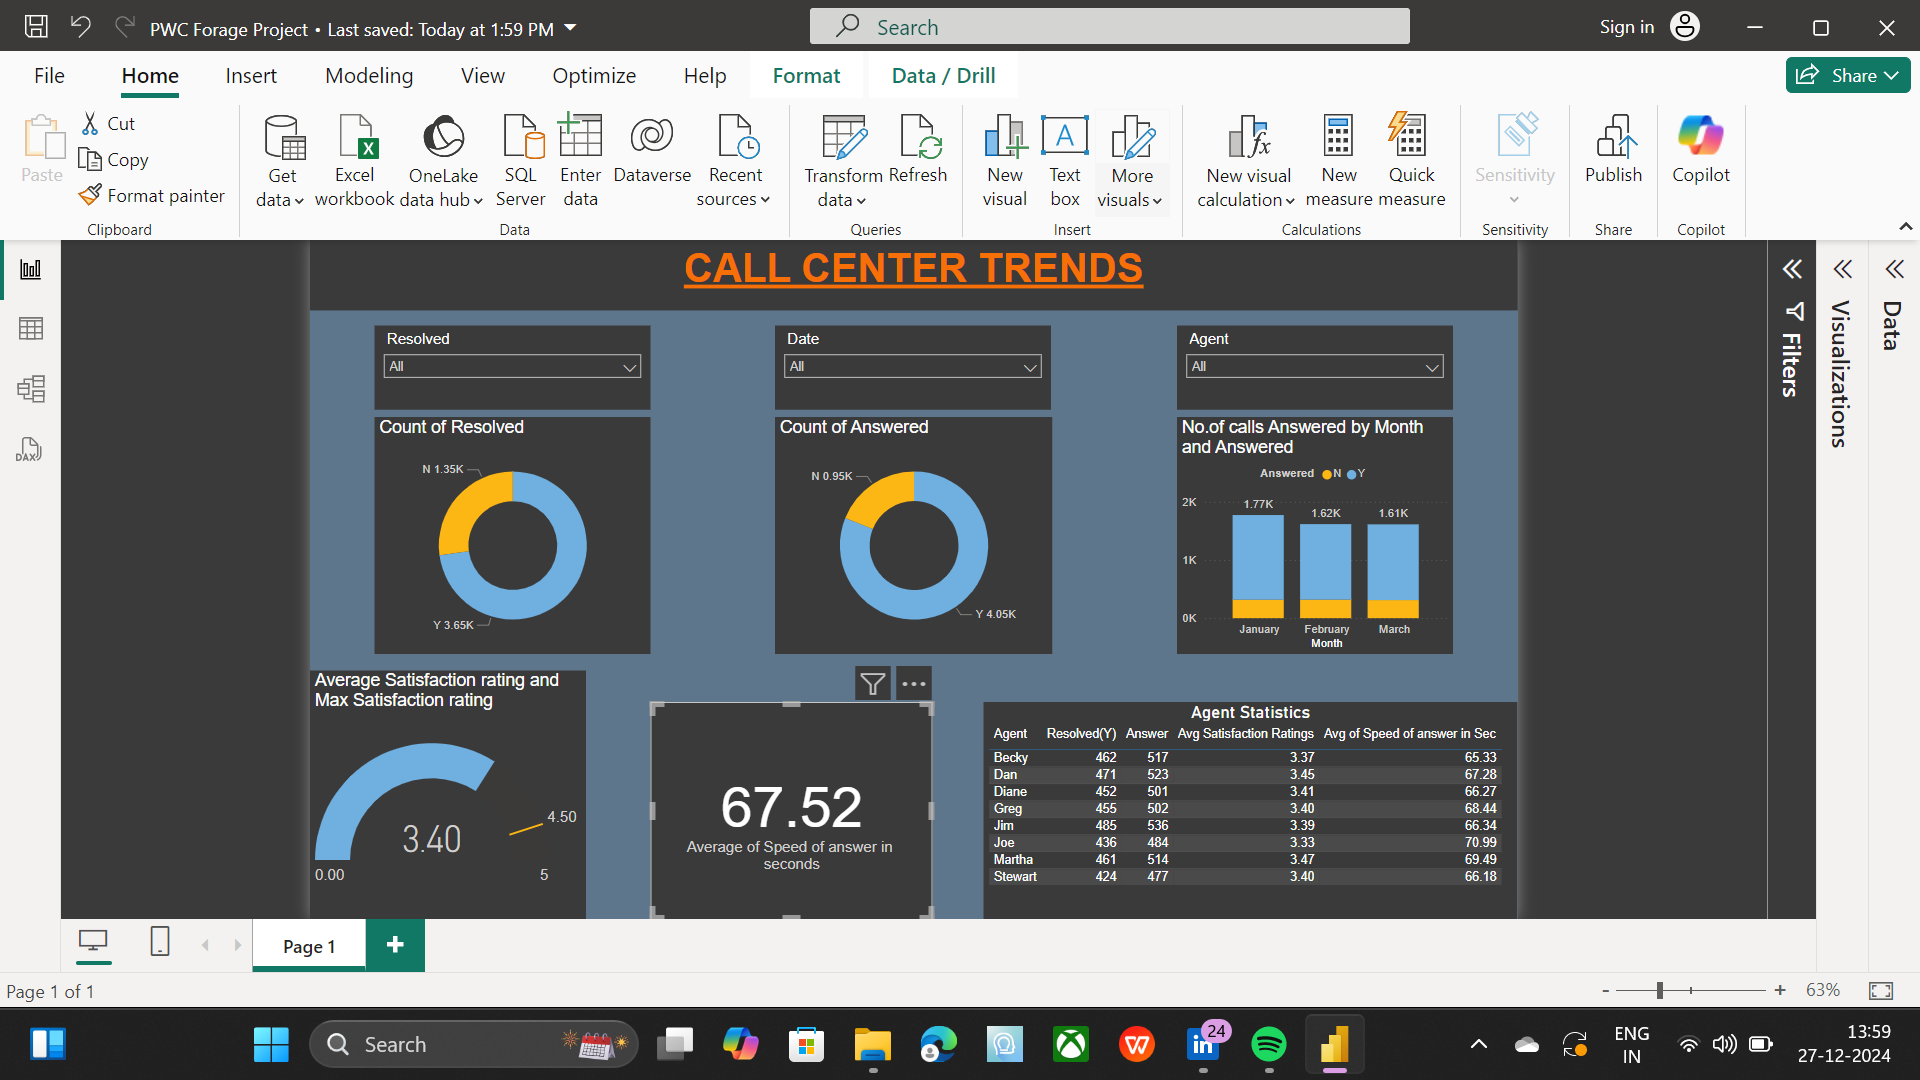

This screenshot's page, from the dashboard's own definition file:
{"tool":"powerbi","page":{"name":"Page 1","canvas":[1280,720],"ordinal":0},"visuals":[{"type":"slicer","fields":{"Values":["Sheet1.Agent"]},"box":[919.4,90.7,292.7,89.1],"z":0},{"type":"slicer","fields":{"Values":["Sheet1.Resolved"]},"box":[68.4,90.7,292.7,89.1],"z":1000},{"type":"slicer","fields":{"Values":["Sheet1.Date"]},"box":[493.1,90.7,292.7,89.1],"z":2000},{"type":"gauge","title":"Average Satisfaction rating and Max Satisfaction rating","fields":{"Y":["Avg(Sheet1.Satisfaction rating)"],"MaxValue":["Max(Sheet1.Satisfaction rating)"]},"box":[0,456.5,292.7,264],"z":3000},{"type":"donutChart","title":"Count of Answered","fields":{"Category":["Sheet1.Answered (Y/N)"],"Y":["CountNonNull(Sheet1.Answered (Y/N))"]},"box":[493.1,187.7,294.3,251.3],"z":4000},{"type":"donutChart","title":"Count of Resolved","fields":{"Category":["Sheet1.Resolved"],"Y":["CountNonNull(Sheet1.Resolved)"]},"box":[68.4,187.7,292.7,251.3],"z":5000},{"type":"card","fields":{"Values":["Avg(Sheet1.Speed of answer in seconds)"]},"box":[361.1,489.9,299,230.6],"z":6000},{"type":"columnChart","title":"No.of calls Answered by Month and Answered","fields":{"Category":["Sheet1.Date.Variation.Date Hierarchy.Month"],"Y":["CountNonNull(Sheet1.Answered (Y/N))"],"Series":["Sheet1.Answered (Y/N)"]},"box":[919.4,187.7,292.7,251.3],"z":7000},{"type":"tableEx","title":"Agent Statistics","fields":{"Values":["Sheet1.Agent","Sheet1.Resolved(Y)","Sheet1.Answer","Avg(Sheet1.Satisfaction rating)","Avg(Sheet1.Speed of answer in seconds)"]},"box":[714.2,489.9,566.3,230.6],"z":8000},{"type":"textbox","box":[0,0,1280.4,74.8],"z":9000}]}

Visuals, with their boxes on the page's 1280x720 design canvas (x1, y1, x2, y2). These are canvas units, not pixel positions in the 1920x1080 screenshot, which may show the page scaled, cropped or inside an application window:
slicer - Sheet1.Agent: box(919, 91, 1212, 180)
slicer - Sheet1.Resolved: box(68, 91, 361, 180)
slicer - Sheet1.Date: box(493, 91, 786, 180)
"Average Satisfaction rating and Max Satisfaction rating" gauge: box(0, 456, 293, 720)
"Count of Answered" donutChart: box(493, 188, 787, 439)
"Count of Resolved" donutChart: box(68, 188, 361, 439)
card - Avg(Sheet1.Speed of answer in seconds): box(361, 490, 660, 720)
"No.of calls Answered by Month and Answered" columnChart: box(919, 188, 1212, 439)
"Agent Statistics" tableEx: box(714, 490, 1280, 720)
textbox: box(0, 0, 1280, 75)
